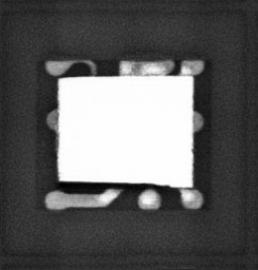DIE_BROKEN: (55, 179, 173, 190)
